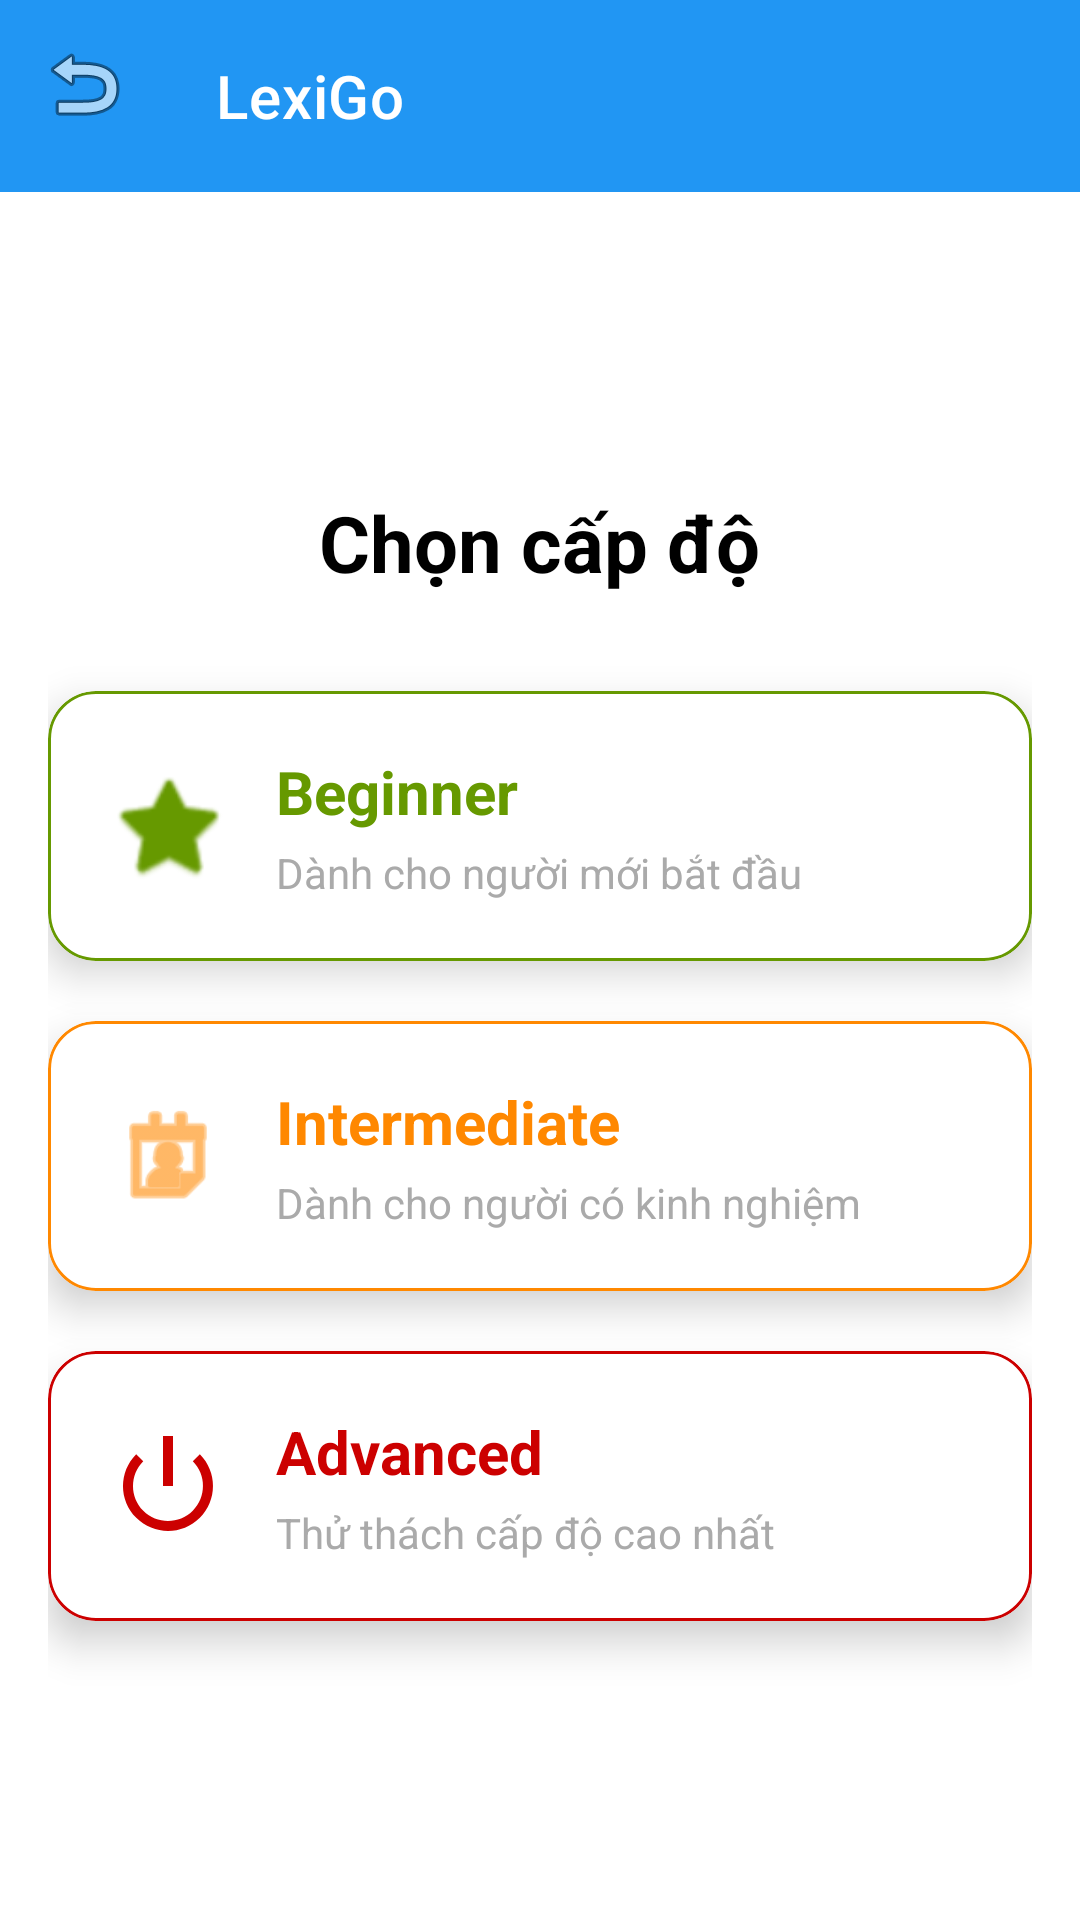

Named icons in this screenshot (1080w x 1920h) and their centers, (x,y):
calendar: (168,1155)
lock power off: (168,1483)
star on: (169,827)
